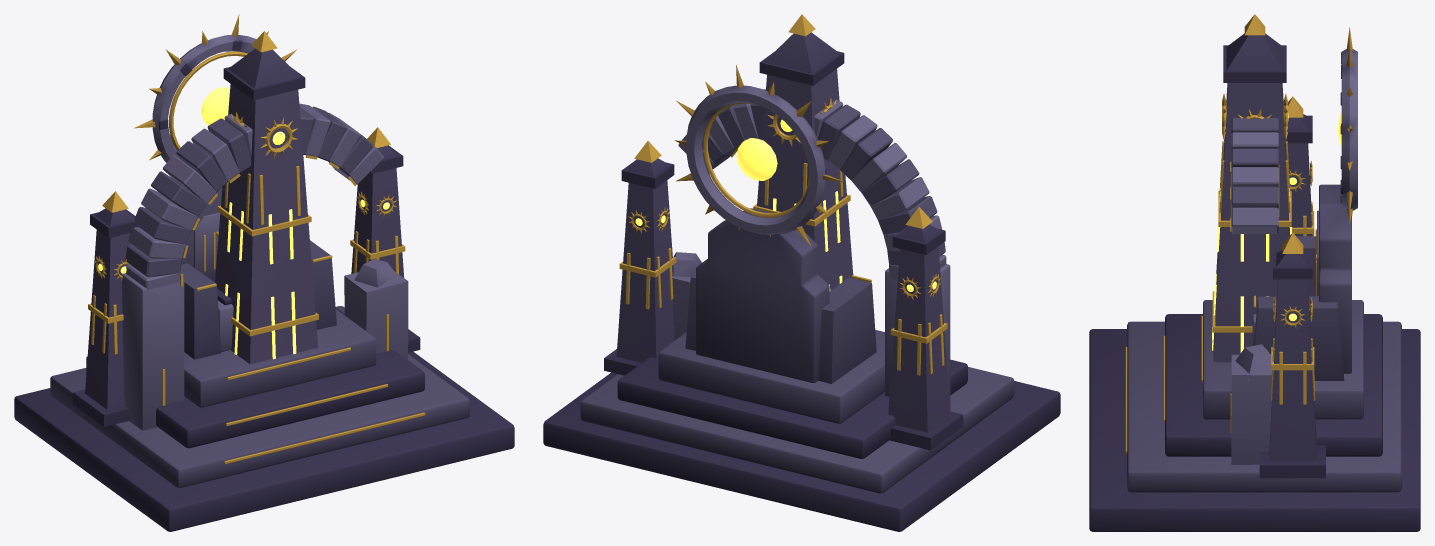
File: sanctum_props.glb
The picture shows the model from 3 angles, left to right: view 1: azimuth 30°, elevation 25°; view 2: azimuth 150°, elevation 25°; view 3: azimuth 270°, elevation 25°; orthographic projection. The views are drawn at different scales.
Parts seen in each view (by area): view 1: Throne__dark, Throne__stone, Arch__light, Obelisk__light, Throne__light, Arch__stone, Throne__gold, Obelisk__gold, Obelisk__stone, Obelisk__glow, Obelisk__dark, Throne__glow (+1 smaller); view 2: Throne__stone, Throne__dark, Throne__light, Arch__light, Obelisk__light, Arch__stone, Throne__gold, Obelisk__stone, Throne__glow, Obelisk__gold, Obelisk__dark; view 3: Throne__dark, Throne__stone, Throne__light, Obelisk__light, Arch__light, Throne__gold, Arch__stone, Obelisk__gold, Obelisk__stone, Obelisk__dark, Obelisk__glow.
Part boxes in pixels (left/top/right/bottom): Throne__dark: left=14, top=40, right=514, bottom=531; Throne__stone: left=50, top=146, right=469, bottom=487; Arch__light: left=121, top=103, right=408, bottom=430; Obelisk__light: left=215, top=84, right=318, bottom=364; Throne__light: left=85, top=35, right=404, bottom=409; Arch__stone: left=125, top=106, right=372, bottom=276; Throne__gold: left=88, top=14, right=425, bottom=464; Obelisk__gold: left=217, top=31, right=318, bottom=336; Obelisk__stone: left=228, top=48, right=300, bottom=88; Obelisk__glow: left=225, top=131, right=296, bottom=359; Obelisk__dark: left=223, top=67, right=305, bottom=100; Throne__glow: left=98, top=87, right=389, bottom=273; Throne__stone: left=580, top=158, right=1014, bottom=493; Throne__dark: left=543, top=115, right=1060, bottom=531; Throne__light: left=616, top=85, right=950, bottom=432; Arch__light: left=672, top=89, right=950, bottom=409; Obelisk__light: left=757, top=69, right=853, bottom=290; Arch__stone: left=702, top=103, right=945, bottom=265; Throne__gold: left=619, top=64, right=947, bottom=375; Obelisk__stone: left=764, top=32, right=839, bottom=73; Throne__glow: left=635, top=138, right=936, bottom=291; Obelisk__gold: left=753, top=14, right=850, bottom=226; Obelisk__dark: left=759, top=51, right=844, bottom=85; Throne__dark: left=1089, top=52, right=1420, bottom=531; Throne__stone: left=1127, top=114, right=1401, bottom=492; Throne__light: left=1252, top=49, right=1357, bottom=461; Obelisk__light: left=1213, top=83, right=1290, bottom=362; Arch__light: left=1231, top=132, right=1278, bottom=464; Throne__gold: left=1125, top=27, right=1352, bottom=453; Arch__stone: left=1231, top=118, right=1278, bottom=208; Obelisk__gold: left=1212, top=14, right=1291, bottom=332; Obelisk__stone: left=1226, top=33, right=1283, bottom=70; Obelisk__dark: left=1223, top=45, right=1286, bottom=82; Obelisk__glow: left=1212, top=113, right=1291, bottom=352.
Bounding box in the file's own units: 9 × 10.08 × 7.
